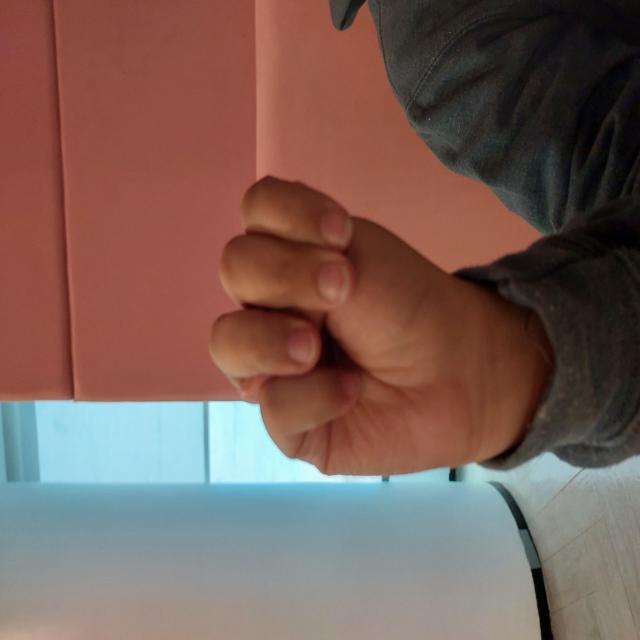M: (154, 202, 477, 506)
